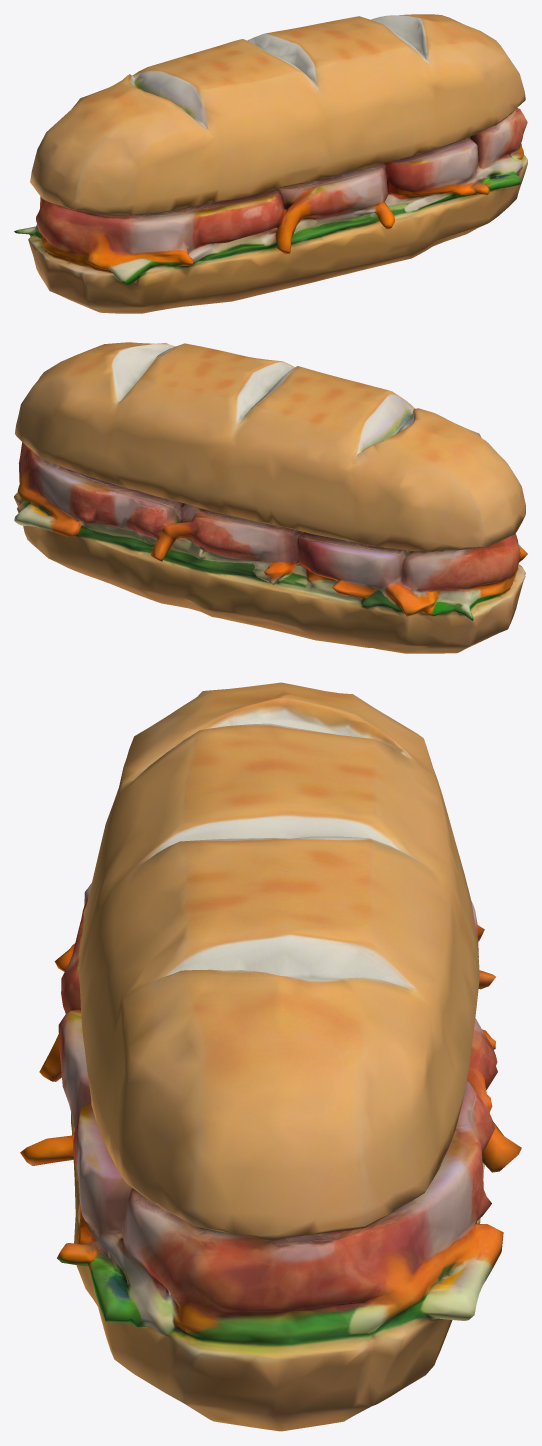
The model's file is Meshy_AI_Low_Poly_Sub_Sandwich_0422183535_texture.fbx.
3 renders of one model, top to bottom at view 1: azimuth 30°, elevation 25°; view 2: azimuth 150°, elevation 25°; view 3: azimuth 270°, elevation 25°, orthographic. The views are drawn at different scales.
Visible parts, largest first — view 1: Mesh_0; view 2: Mesh_0; view 3: Mesh_0.
Boxes of the visible parts, left/top/right/bottom form: Mesh_0: left=14, top=14, right=527, bottom=313; Mesh_0: left=14, top=342, right=527, bottom=653; Mesh_0: left=20, top=682, right=521, bottom=1431.
Size of the model in its own units: 200 by 88.48 by 92.27.
1 material, 1 textured.
